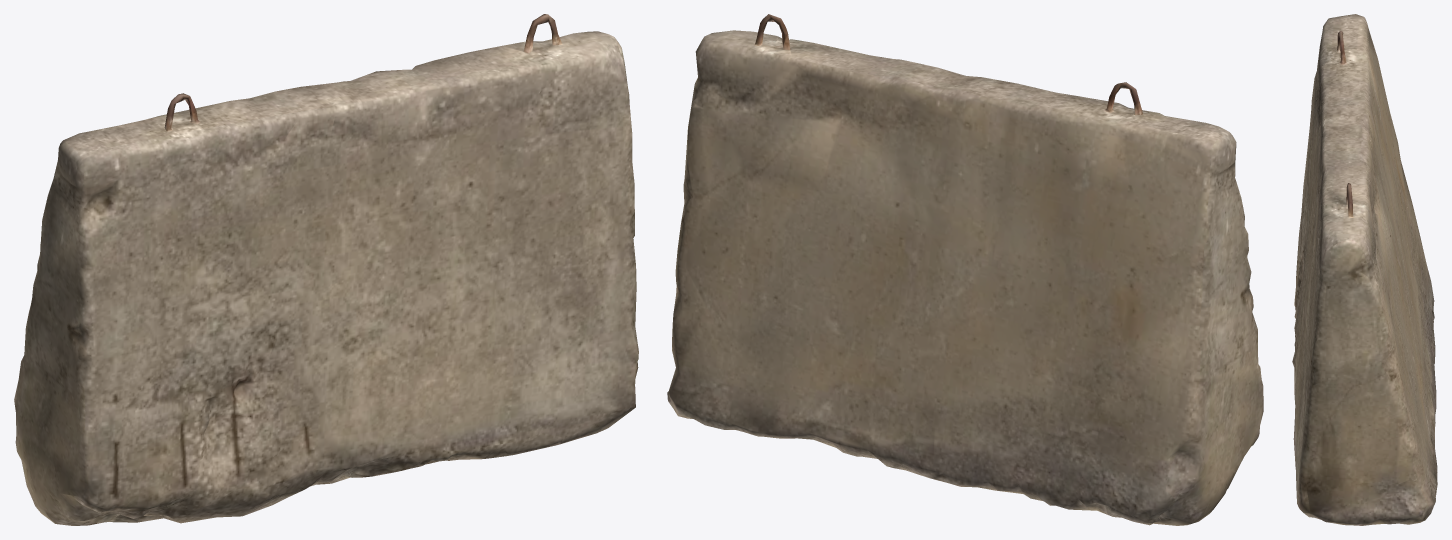
File: road_barrier.glb
The picture shows the model from 3 angles, left to right: view 1: azimuth 30°, elevation 25°; view 2: azimuth 150°, elevation 25°; view 3: azimuth 270°, elevation 25°; orthographic projection. The views are drawn at different scales.
Visible parts, largest first — view 1: concrete_road_barrier_02; view 2: concrete_road_barrier_02; view 3: concrete_road_barrier_02.
Part boxes in pixels (bbox=[...]): concrete_road_barrier_02: bbox=[14, 14, 638, 525]; concrete_road_barrier_02: bbox=[667, 14, 1263, 525]; concrete_road_barrier_02: bbox=[1292, 14, 1437, 525].
Bounding box in the file's own units: 1.56 × 1.11 × 0.4418.
Materials: 1 (1 with a texture image).
